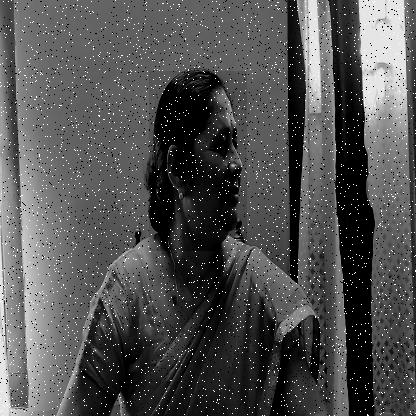Distracted: (149, 71, 247, 251)
